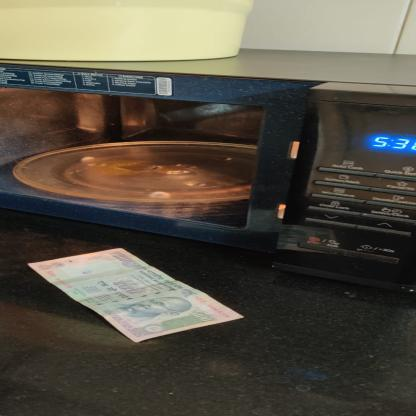Old100Front: (26, 247, 246, 344)
